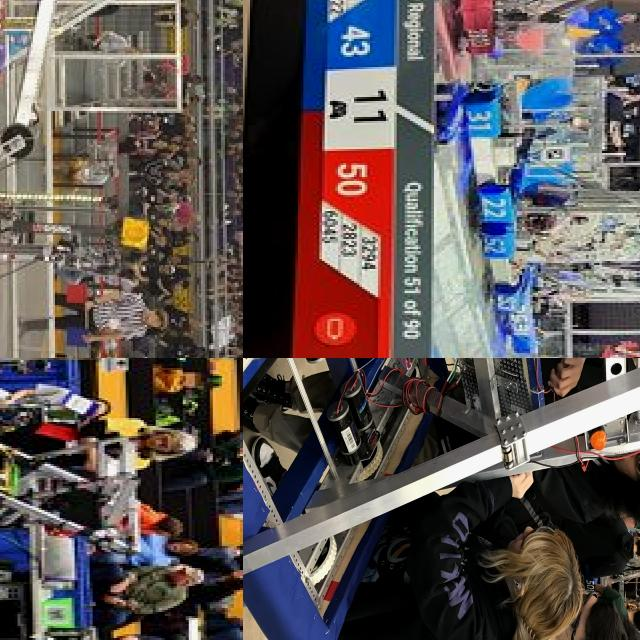FRC-Robots: (243, 358, 640, 640), (0, 0, 112, 358), (0, 425, 153, 631), (477, 177, 640, 312), (0, 160, 110, 300), (443, 0, 640, 73), (446, 91, 596, 178), (497, 282, 609, 358)
